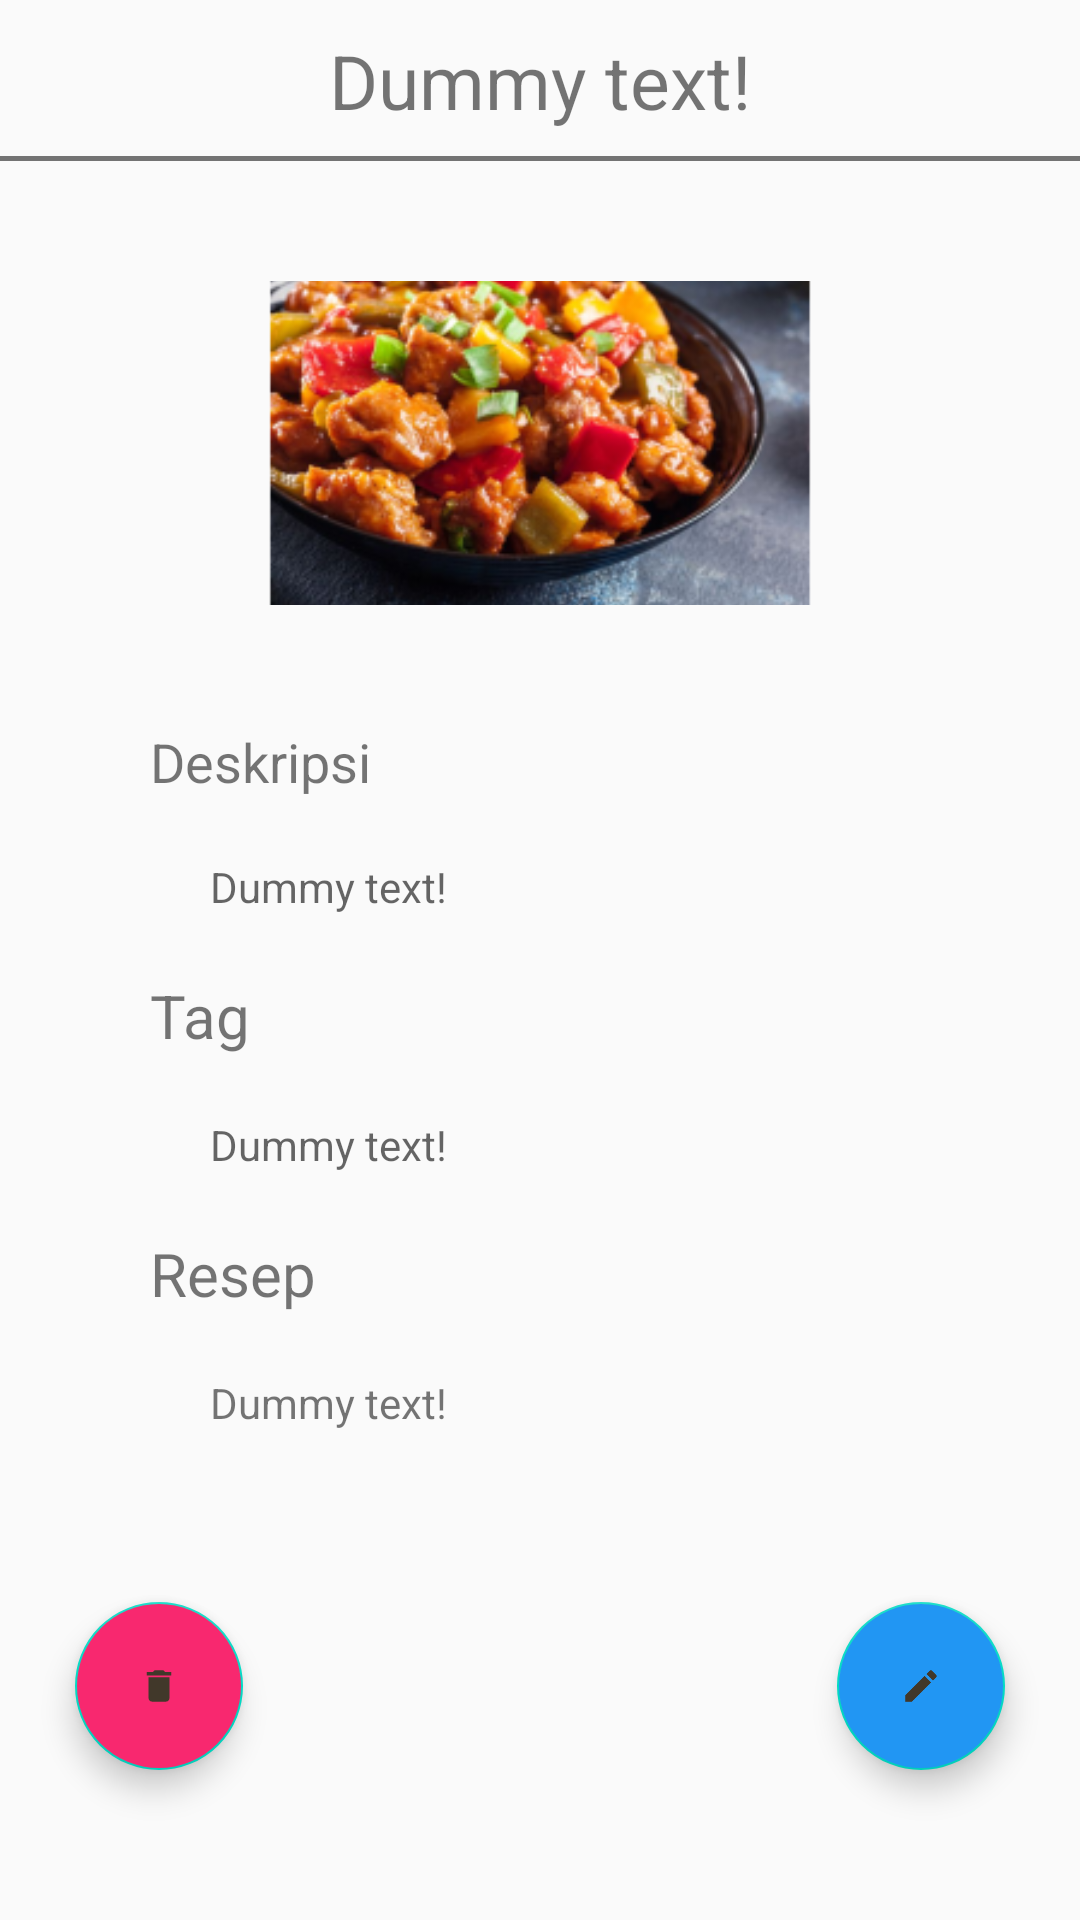

Locate icon controls on the screen. Image size 1080×1920, boxes as (x1, y1, x2, y2).
delete food: (75, 1602, 243, 1770)
edit food: (837, 1602, 1005, 1770)
